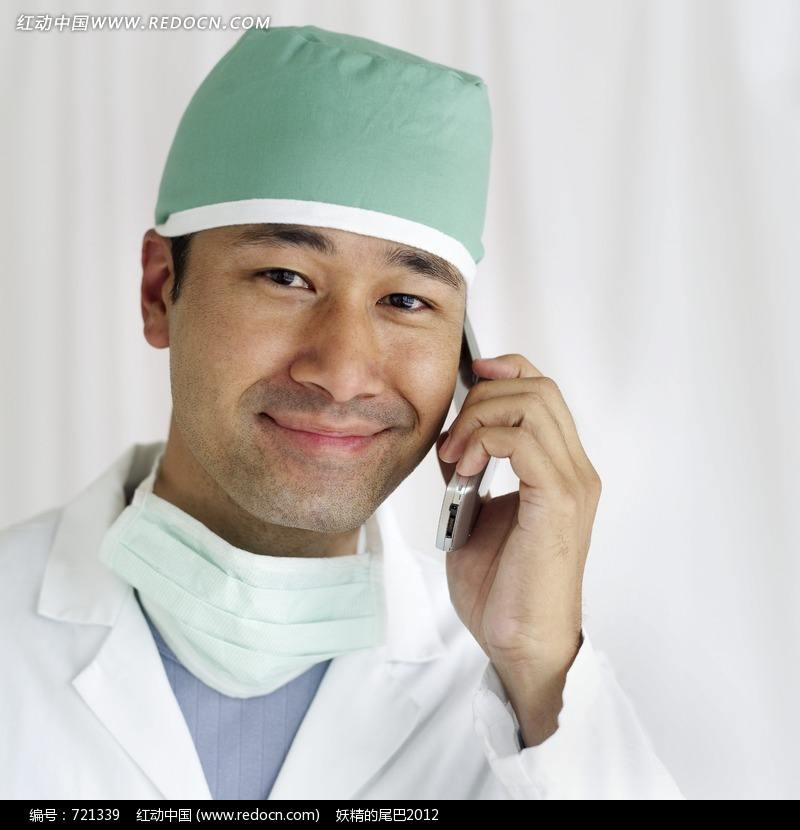phone: (440, 304, 522, 557)
talk: (197, 206, 591, 655)
